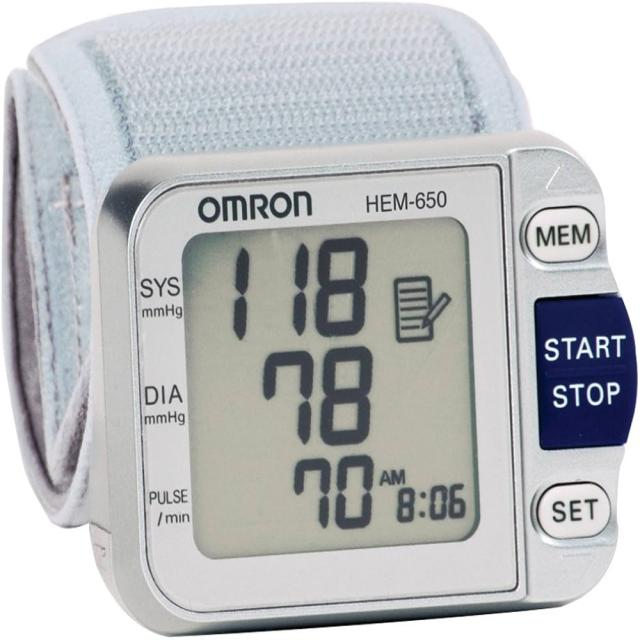dia: (255, 341, 391, 454)
pul: (285, 446, 398, 543)
ssd: (182, 217, 482, 561)
sys: (213, 226, 379, 352)
